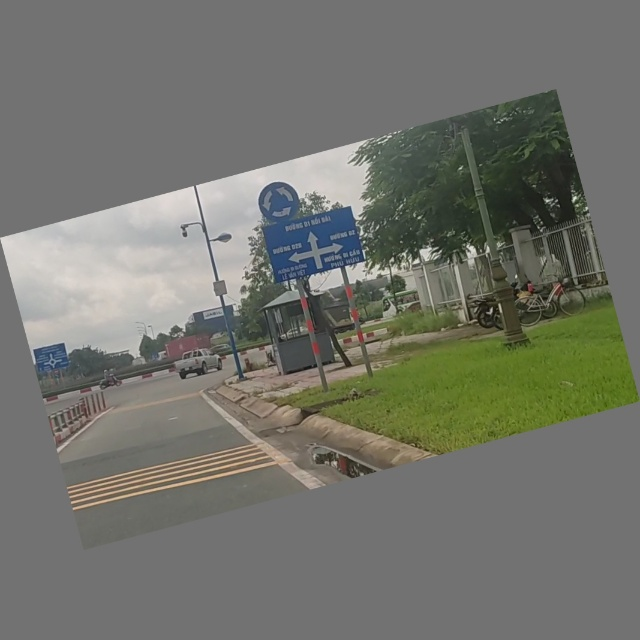R.303: (252, 174, 306, 227)
